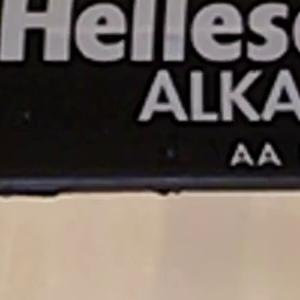ALK: (130, 62, 256, 130)
